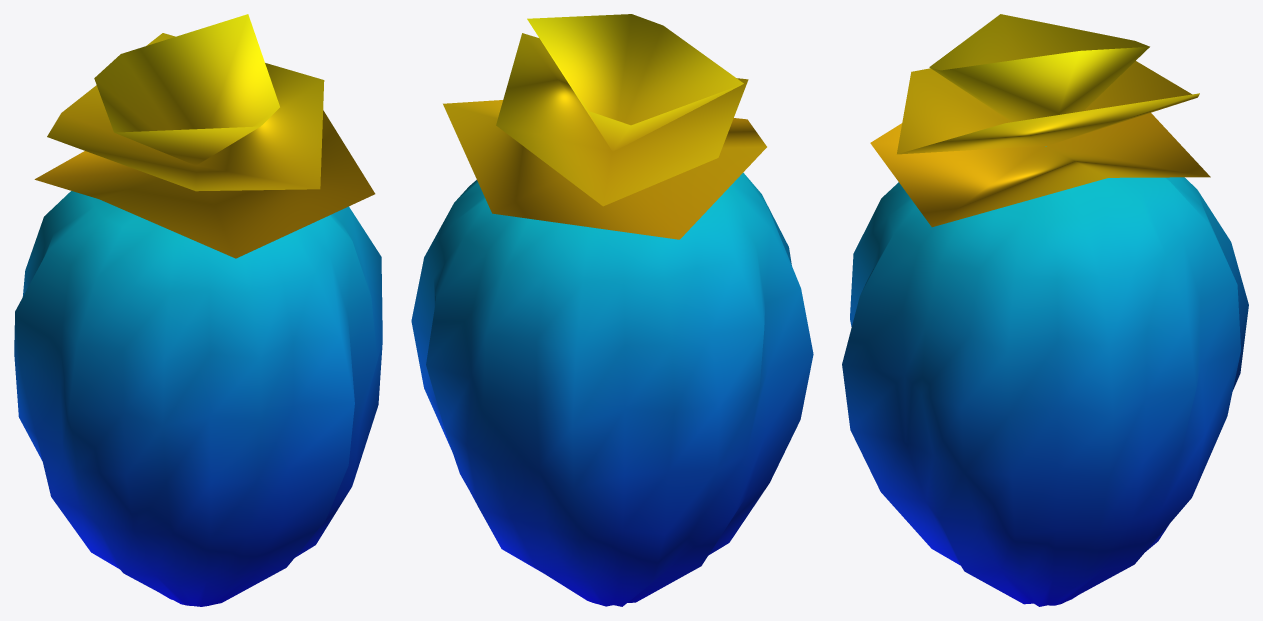
Rendered from Cacactus2.fbx.
3 views of the same model, side by side, from view 1: azimuth 30°, elevation 25°; view 2: azimuth 150°, elevation 25°; view 3: azimuth 270°, elevation 25° (orthographic). The views are drawn at different scales.
Visible parts, largest first — view 1: Cacactus2_LOD0; view 2: Cacactus2_LOD0; view 3: Cacactus2_LOD0.
Part boxes in pixels (x1,y1,x2,y2): Cacactus2_LOD0: (14,14,382,606); Cacactus2_LOD0: (411,14,813,606); Cacactus2_LOD0: (842,14,1248,606).
Size of what is drawn, in the model's own units: 56.94 by 91.14 by 58.32.
